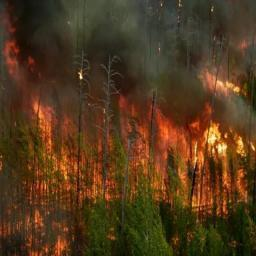Large fire: (7, 50, 255, 252)
Low smoke: (8, 2, 205, 74)
